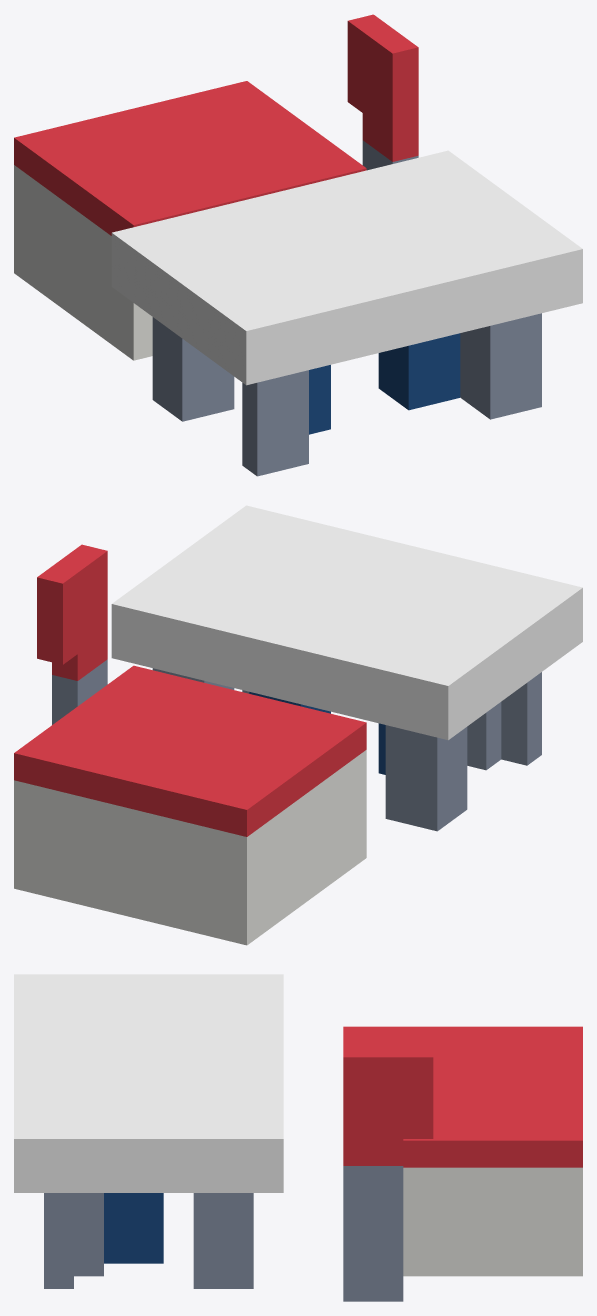
The model's file is petrol_station.glb.
3 renders of one model, top to bottom at view 1: azimuth 30°, elevation 25°; view 2: azimuth 150°, elevation 25°; view 3: azimuth 270°, elevation 25°, orthographic.
Parts seen in each view (by area): view 1: petrol_station_white, petrol_station_red, petrol_station_metal, petrol_station_offwhite, petrol_station_garda_blue; view 2: petrol_station_white, petrol_station_red, petrol_station_offwhite, petrol_station_metal, petrol_station_garda_blue; view 3: petrol_station_white, petrol_station_red, petrol_station_offwhite, petrol_station_metal, petrol_station_garda_blue.
Boxes of the visible parts, left/top/right/bottom form: petrol_station_white: left=111, top=150, right=582, bottom=385; petrol_station_red: left=14, top=14, right=418, bottom=235; petrol_station_metal: left=152, top=140, right=541, bottom=476; petrol_station_offwhite: left=14, top=165, right=152, bottom=360; petrol_station_garda_blue: left=309, top=333, right=460, bottom=434; petrol_station_white: left=111, top=505, right=582, bottom=740; petrol_station_red: left=14, top=544, right=366, bottom=836; petrol_station_offwhite: left=14, top=750, right=366, bottom=945; petrol_station_metal: left=52, top=659, right=541, bottom=831; petrol_station_garda_blue: left=249, top=692, right=385, bottom=774; petrol_station_white: left=14, top=974, right=283, bottom=1192; petrol_station_red: left=343, top=1026, right=582, bottom=1167; petrol_station_offwhite: left=403, top=1167, right=582, bottom=1276; petrol_station_metal: left=44, top=1166, right=403, bottom=1301; petrol_station_garda_blue: left=104, top=1193, right=163, bottom=1263.
Bounding box in the file's own units: 15.08 × 10.44 × 22.04.
